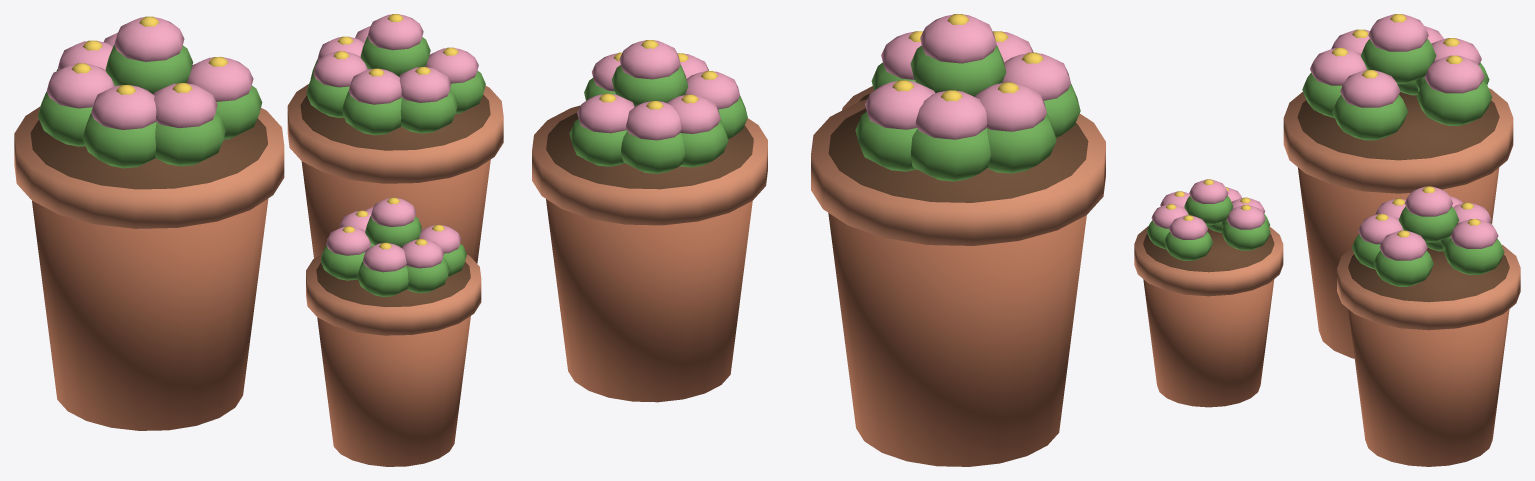
Rendered from flower-pots.glb.
3 views of the same model, side by side, from view 1: azimuth 30°, elevation 25°; view 2: azimuth 150°, elevation 25°; view 3: azimuth 270°, elevation 25° (orthographic). The views are drawn at different scales.
Visible parts, largest first — view 1: pots; view 2: pots; view 3: pots.
Part boxes in pixels (x1,y1,x2,y2): pots: (14, 14, 503, 466); pots: (532, 14, 1105, 466); pots: (1134, 14, 1520, 466).
Bounding box in the file's own units: 0.6122 × 0.46 × 0.5092.
